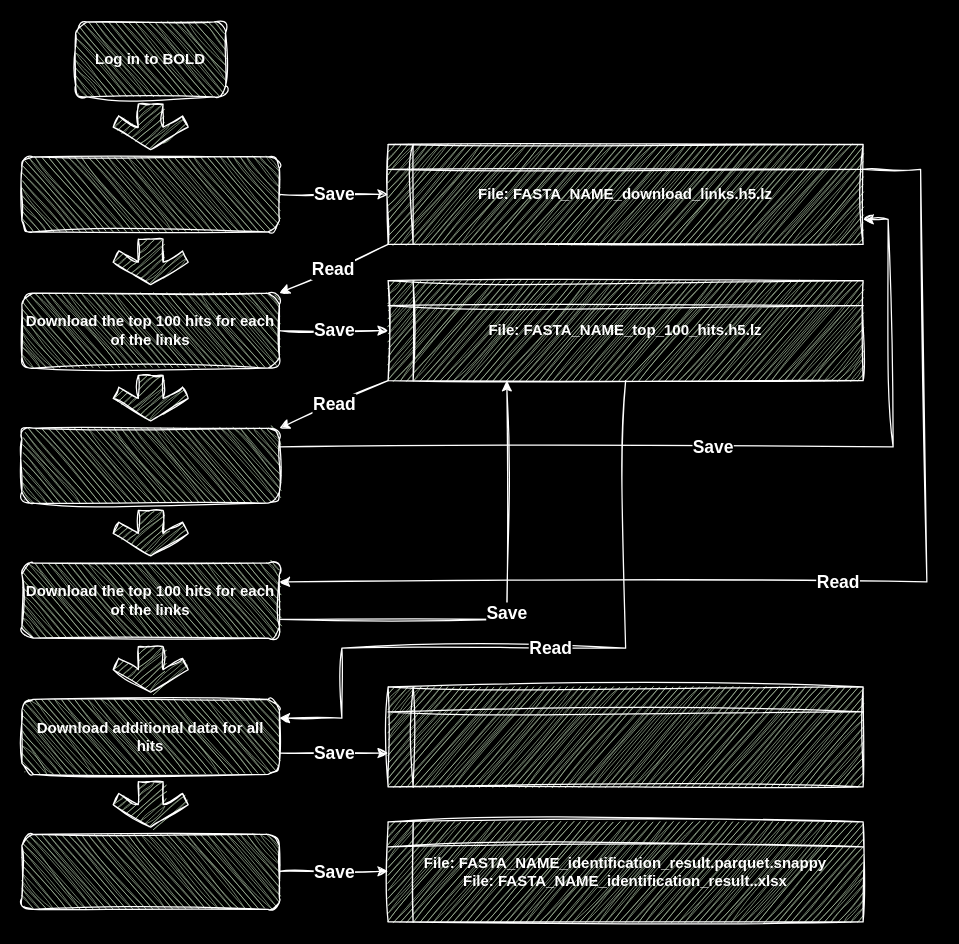
Some shapes in this 959 by 944 pixel diagram are drawn without their labels. The shapes that lost their labels are listed below. From the top down, each one's box as (x1, y1, x2, y2) in pixels, then its label:
(21, 156, 279, 232): Generate download links from the "species level barcodes" database
(21, 427, 279, 503): Generate download links from the "all records" database
(387, 686, 863, 787): File: FASTA_NAME_top_100_hits.xlsx
(21, 833, 279, 909): Calculate the top hit for each query
